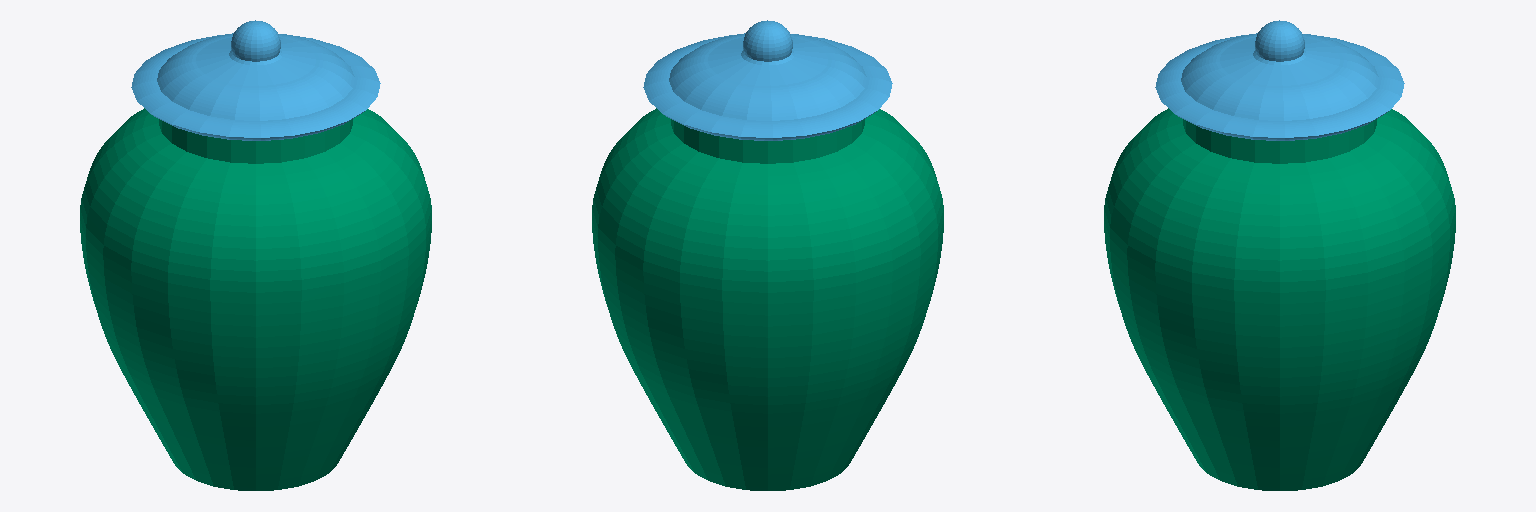
The robot description file, URDF, robot "partnet_73d1c7ed4bdb3bfd2f2318fdd66be40a":
<?xml version="1.0" ?>
<robot name="partnet_73d1c7ed4bdb3bfd2f2318fdd66be40a">
	<link name="base"/>
	<link name="link_0">
		<visual name="lid-5">
			<origin xyz="0.024960209280970147 0 -0.012980317312985087"/>
			<geometry>
				<mesh filename="textured_objs/original-3.obj"/>
			</geometry>
		</visual>
		<collision>
			<origin xyz="0.024960209280970147 0 -0.012980317312985087"/>
			<geometry>
				<mesh filename="textured_objs/original-3.obj"/>
			</geometry>
		</collision>
	</link>
	<joint name="joint_0" type="prismatic">
		<origin xyz="-0.024960209280970147 0 0.012980317312985087"/>
		<axis xyz="0 1 0"/>
		<child link="link_0"/>
		<parent link="link_1"/>
		<limit lower="0" upper="0.02400000000000002"/>
	</joint>
	<link name="link_1">
		<visual name="container-6">
			<origin xyz="0 0 0"/>
			<geometry>
				<mesh filename="textured_objs/new-1.obj"/>
			</geometry>
		</visual>
		<visual name="container-6">
			<origin xyz="0 0 0"/>
			<geometry>
				<mesh filename="textured_objs/new-0.obj"/>
			</geometry>
		</visual>
		<collision>
			<origin xyz="0 0 0"/>
			<geometry>
				<mesh filename="textured_objs/new-1.obj"/>
			</geometry>
		</collision>
		<collision>
			<origin xyz="0 0 0"/>
			<geometry>
				<mesh filename="textured_objs/new-0.obj"/>
			</geometry>
		</collision>
	</link>
	<joint name="joint_1" type="fixed">
		<origin rpy="1.570796326794897 0 -1.570796326794897" xyz="0 0 0"/>
		<child link="link_1"/>
		<parent link="base"/>
	</joint>
</robot>

--- Render facts (derived) ---
3 views of the same robot in one strip: view 1: azimuth 30°, elevation 25°; view 2: azimuth 150°, elevation 25°; view 3: azimuth 270°, elevation 25° (orthographic).
Robot: partnet_73d1c7ed4bdb3bfd2f2318fdd66be40a — 3 links, 2 joints (1 prismatic, 1 fixed); root link base; default pose: all joints at 0.
Links seen in each view (by area): view 1: link_1, link_0; view 2: link_1, link_0; view 3: link_1, link_0.
Boxes of the visible links, bbox=[...] form: link_1: bbox=[80, 108, 431, 490]; link_0: bbox=[131, 20, 380, 140]; link_1: bbox=[592, 108, 943, 490]; link_0: bbox=[643, 20, 892, 140]; link_1: bbox=[1104, 108, 1455, 490]; link_0: bbox=[1155, 20, 1404, 140].
Size in the robot's own frame: 1.4 by 1.4 by 1.89 metres.
Meshes: 3 distinct files referenced, 3 mesh visuals loaded (3 OBJ).
